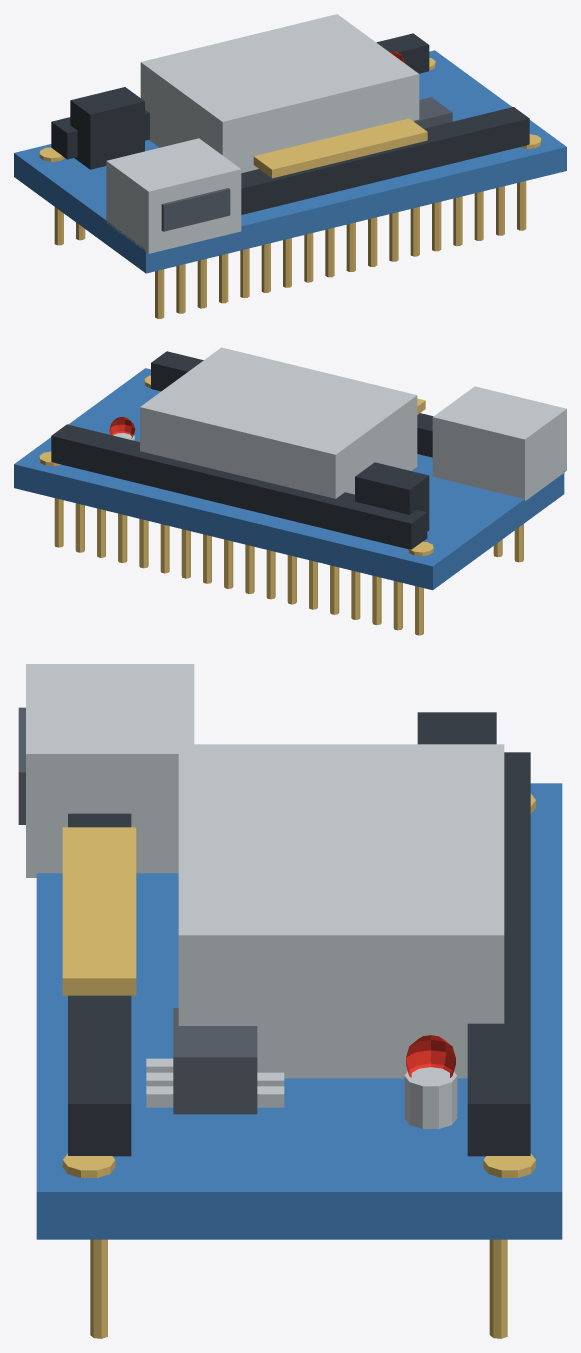
Rendered from product-2.glb.
3 views of the same model, one above another, from view 1: azimuth 30°, elevation 25°; view 2: azimuth 150°, elevation 25°; view 3: azimuth 270°, elevation 25° (orthographic). The views are drawn at different scales.
Visible parts, largest first — view 1: product-2; view 2: product-2; view 3: product-2.
Boxes of the visible parts, x1,y1,x2,y2 form: product-2: (14, 14, 566, 318); product-2: (14, 347, 566, 635); product-2: (18, 664, 562, 1338).
Bounding box in the file's own units: 0.92 × 0.335 × 0.517.
